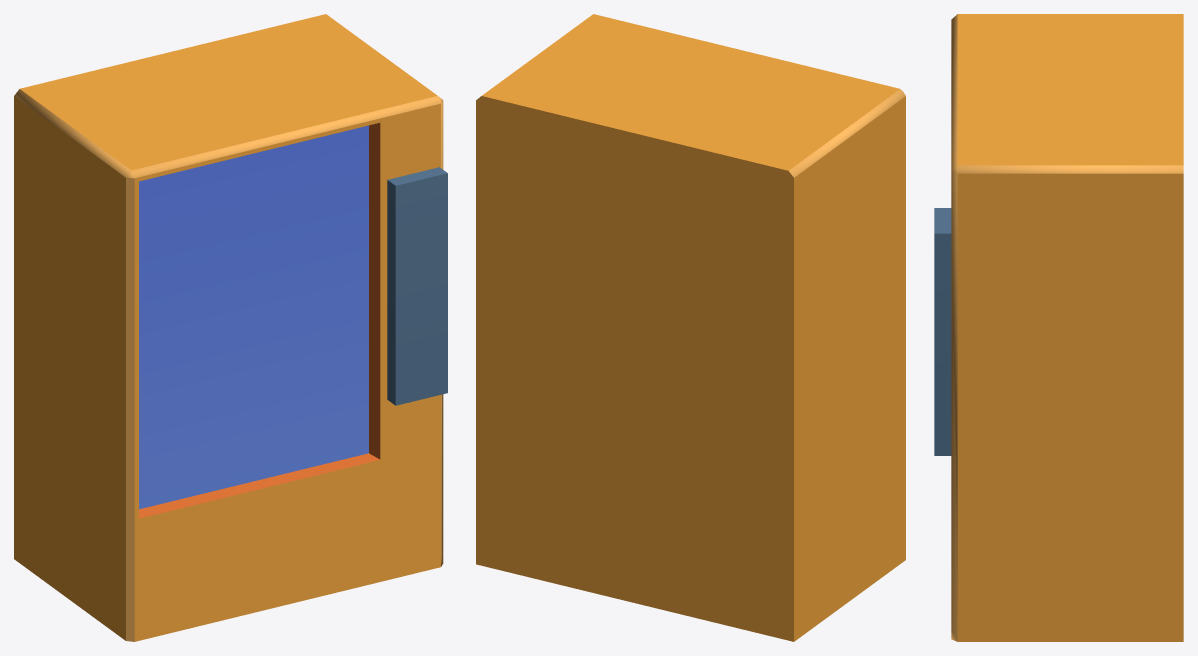
The model's file is drink machine.fbx.
3 renders of one model, left to right at view 1: azimuth 30°, elevation 25°; view 2: azimuth 150°, elevation 25°; view 3: azimuth 270°, elevation 25°, orthographic.
Parts seen in each view (by area): view 1: drinks_machine; view 2: drinks_machine; view 3: drinks_machine.
Boxes of the visible parts, <box> form: drinks_machine: <box>14,14,447,641</box>; drinks_machine: <box>476,14,905,641</box>; drinks_machine: <box>934,14,1183,641</box>.
Bounding box in the file's own units: 104 × 147 × 70.05.
